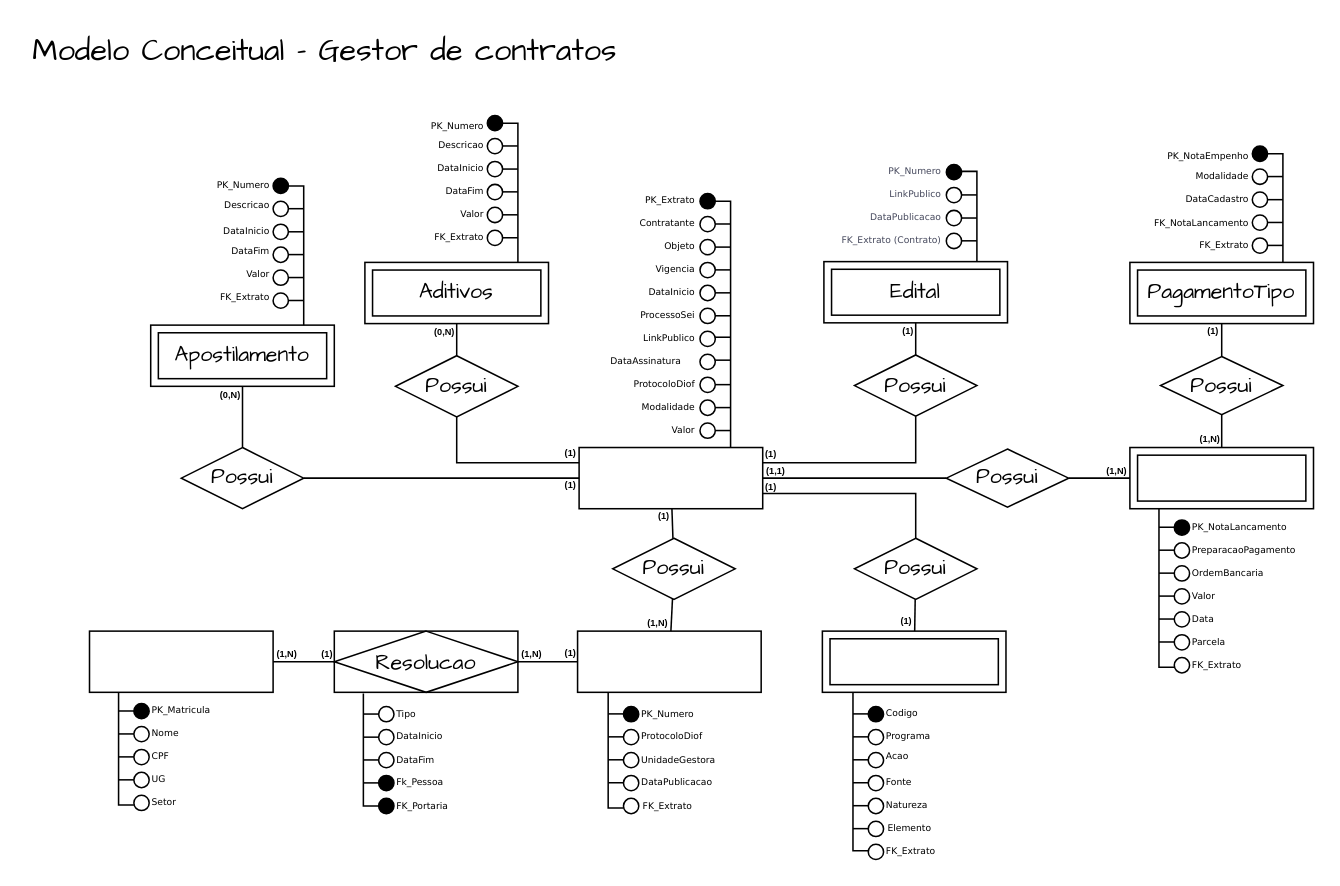
Some shapes in this 1340 by 886 pixel diagram are drawn without their labels. The box of each missing label's shape, as (x1, y1, x2, y2) in pixels:
Contrato: (578, 446, 763, 509)
Despesa: (821, 630, 1006, 692)
Pagamento: (1128, 446, 1314, 509)
Pessoas: (88, 630, 273, 692)
Portaria: (576, 630, 761, 692)
